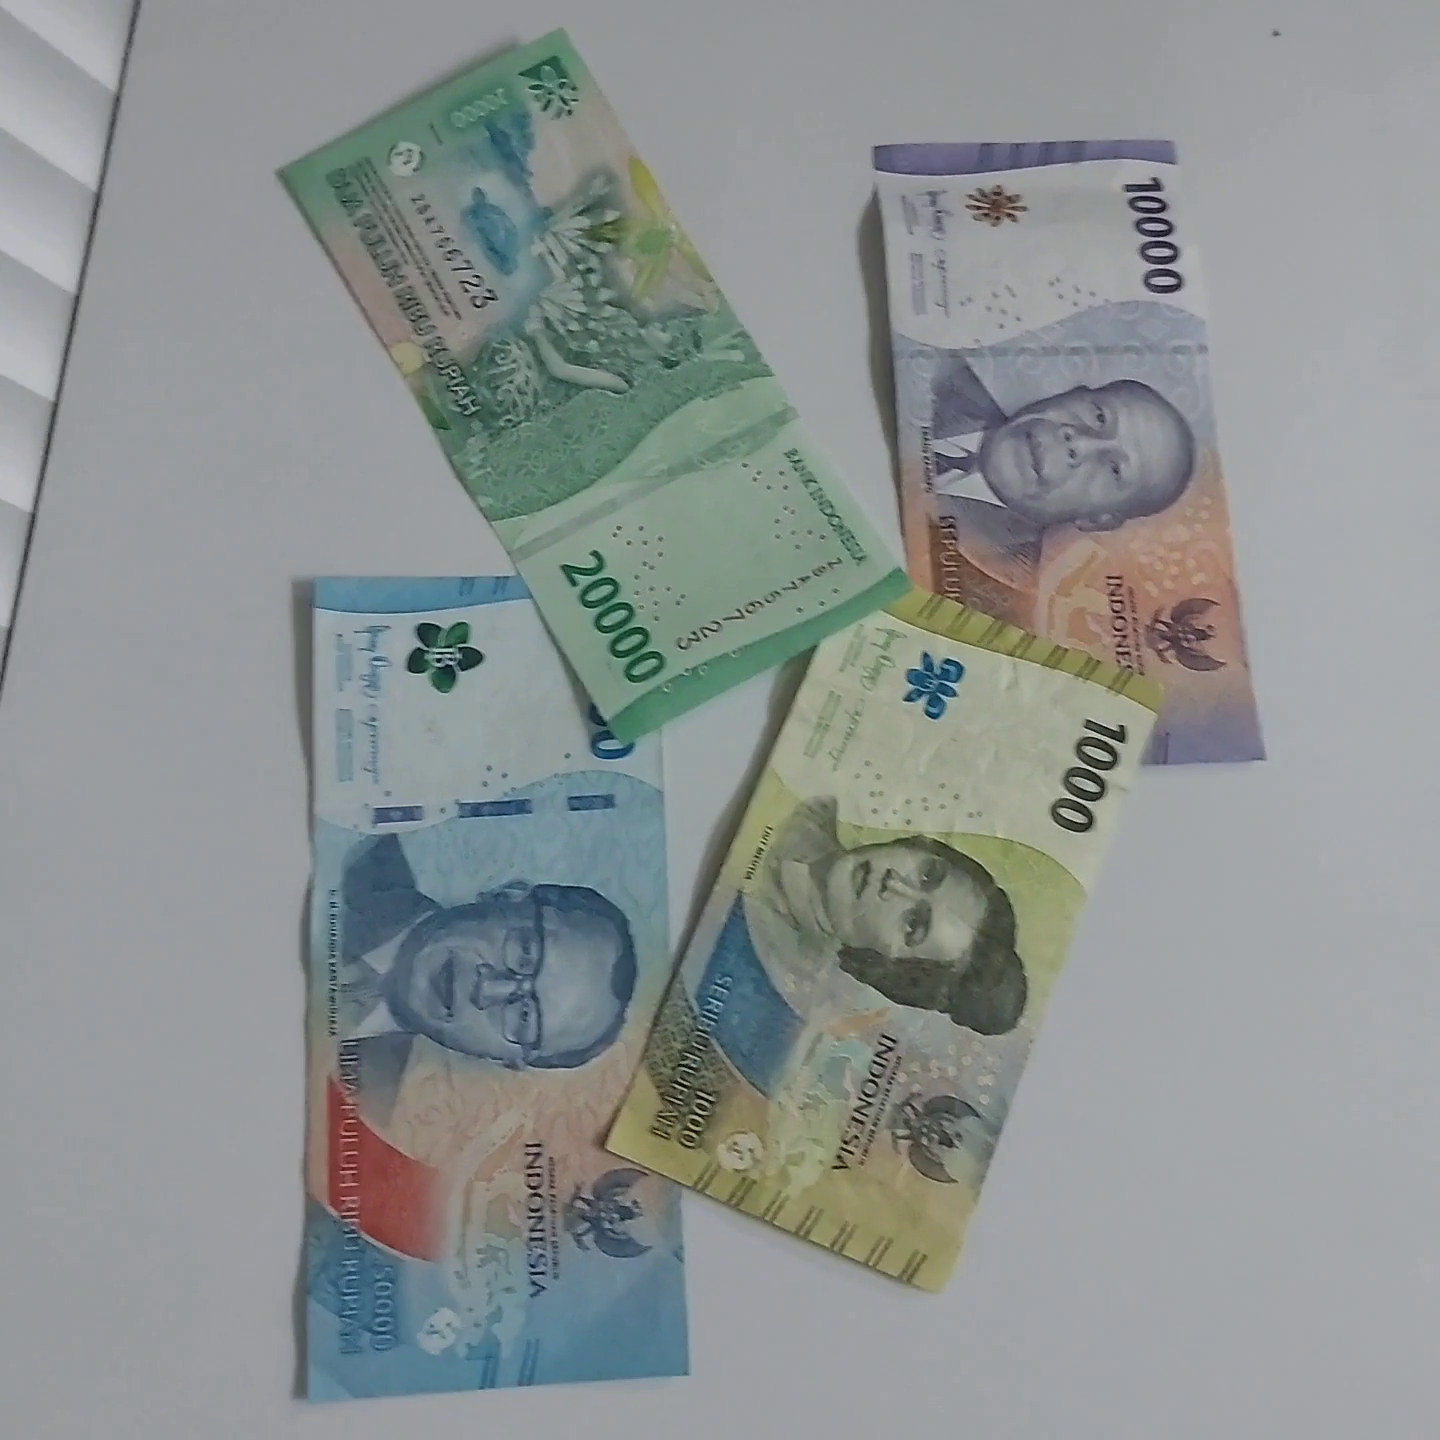10k: (851, 115, 1295, 790)
1k: (852, 563, 1217, 1228)
20k: (282, 187, 621, 861)
50k: (287, 526, 687, 1395)
